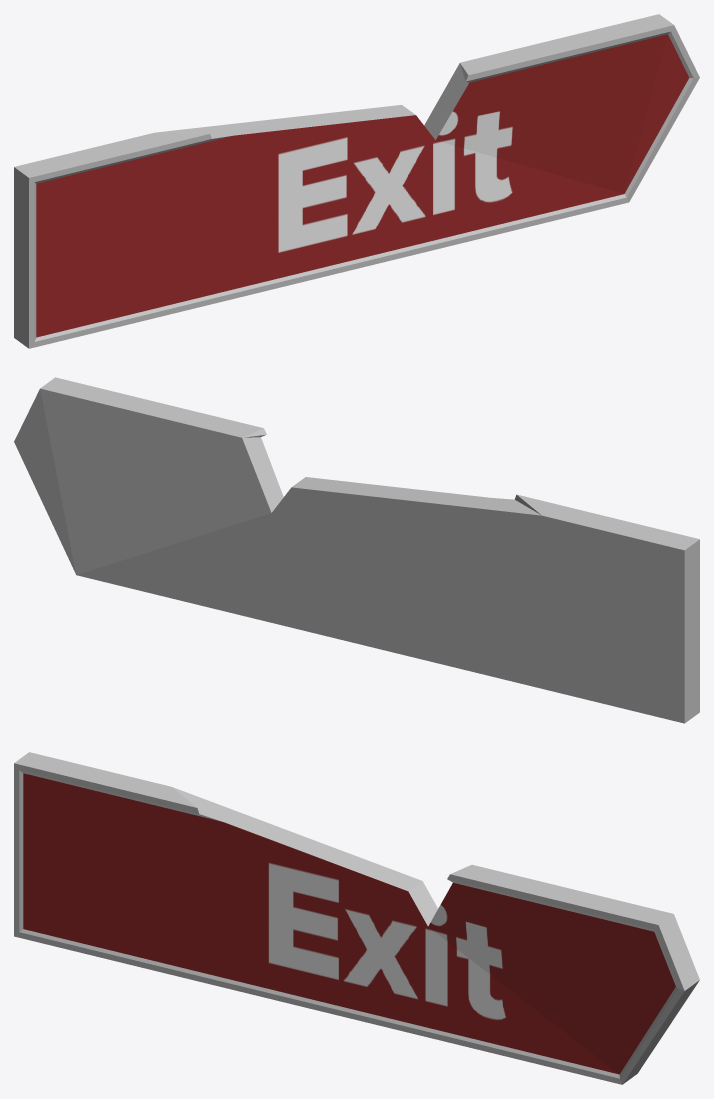
File: SM_Direction_Indicator_03_A.fbx
The picture shows the model from 3 angles, top to bottom: view 1: azimuth 30°, elevation 25°; view 2: azimuth 150°, elevation 25°; view 3: azimuth 330°, elevation 25°; orthographic projection.
Parts seen in each view (by area): view 1: SM_Direction_Indicator_03_A; view 2: SM_Direction_Indicator_03_A; view 3: SM_Direction_Indicator_03_A.
Boxes of the visible parts, box(x1,y1,x2,y2) form: SM_Direction_Indicator_03_A: box(14, 14, 699, 348); SM_Direction_Indicator_03_A: box(14, 377, 699, 723); SM_Direction_Indicator_03_A: box(14, 752, 699, 1084).
Size of the model in its own units: 56.65 by 13.88 by 2.91.
